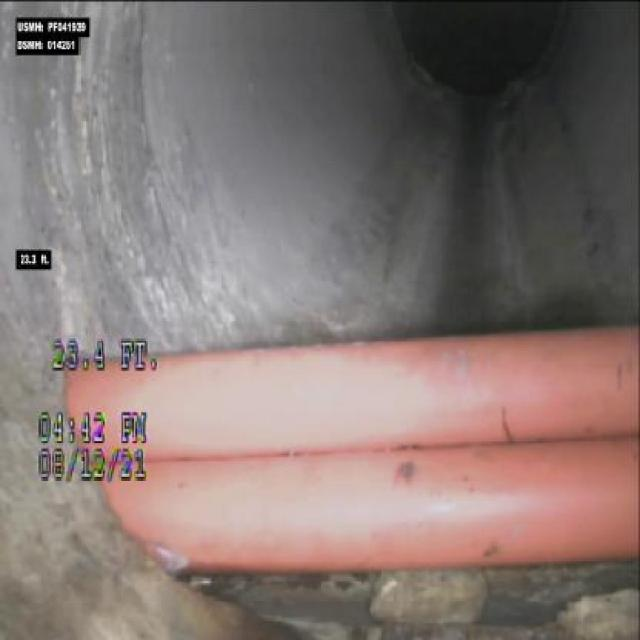Utility intrusion: (54, 316, 638, 582)
